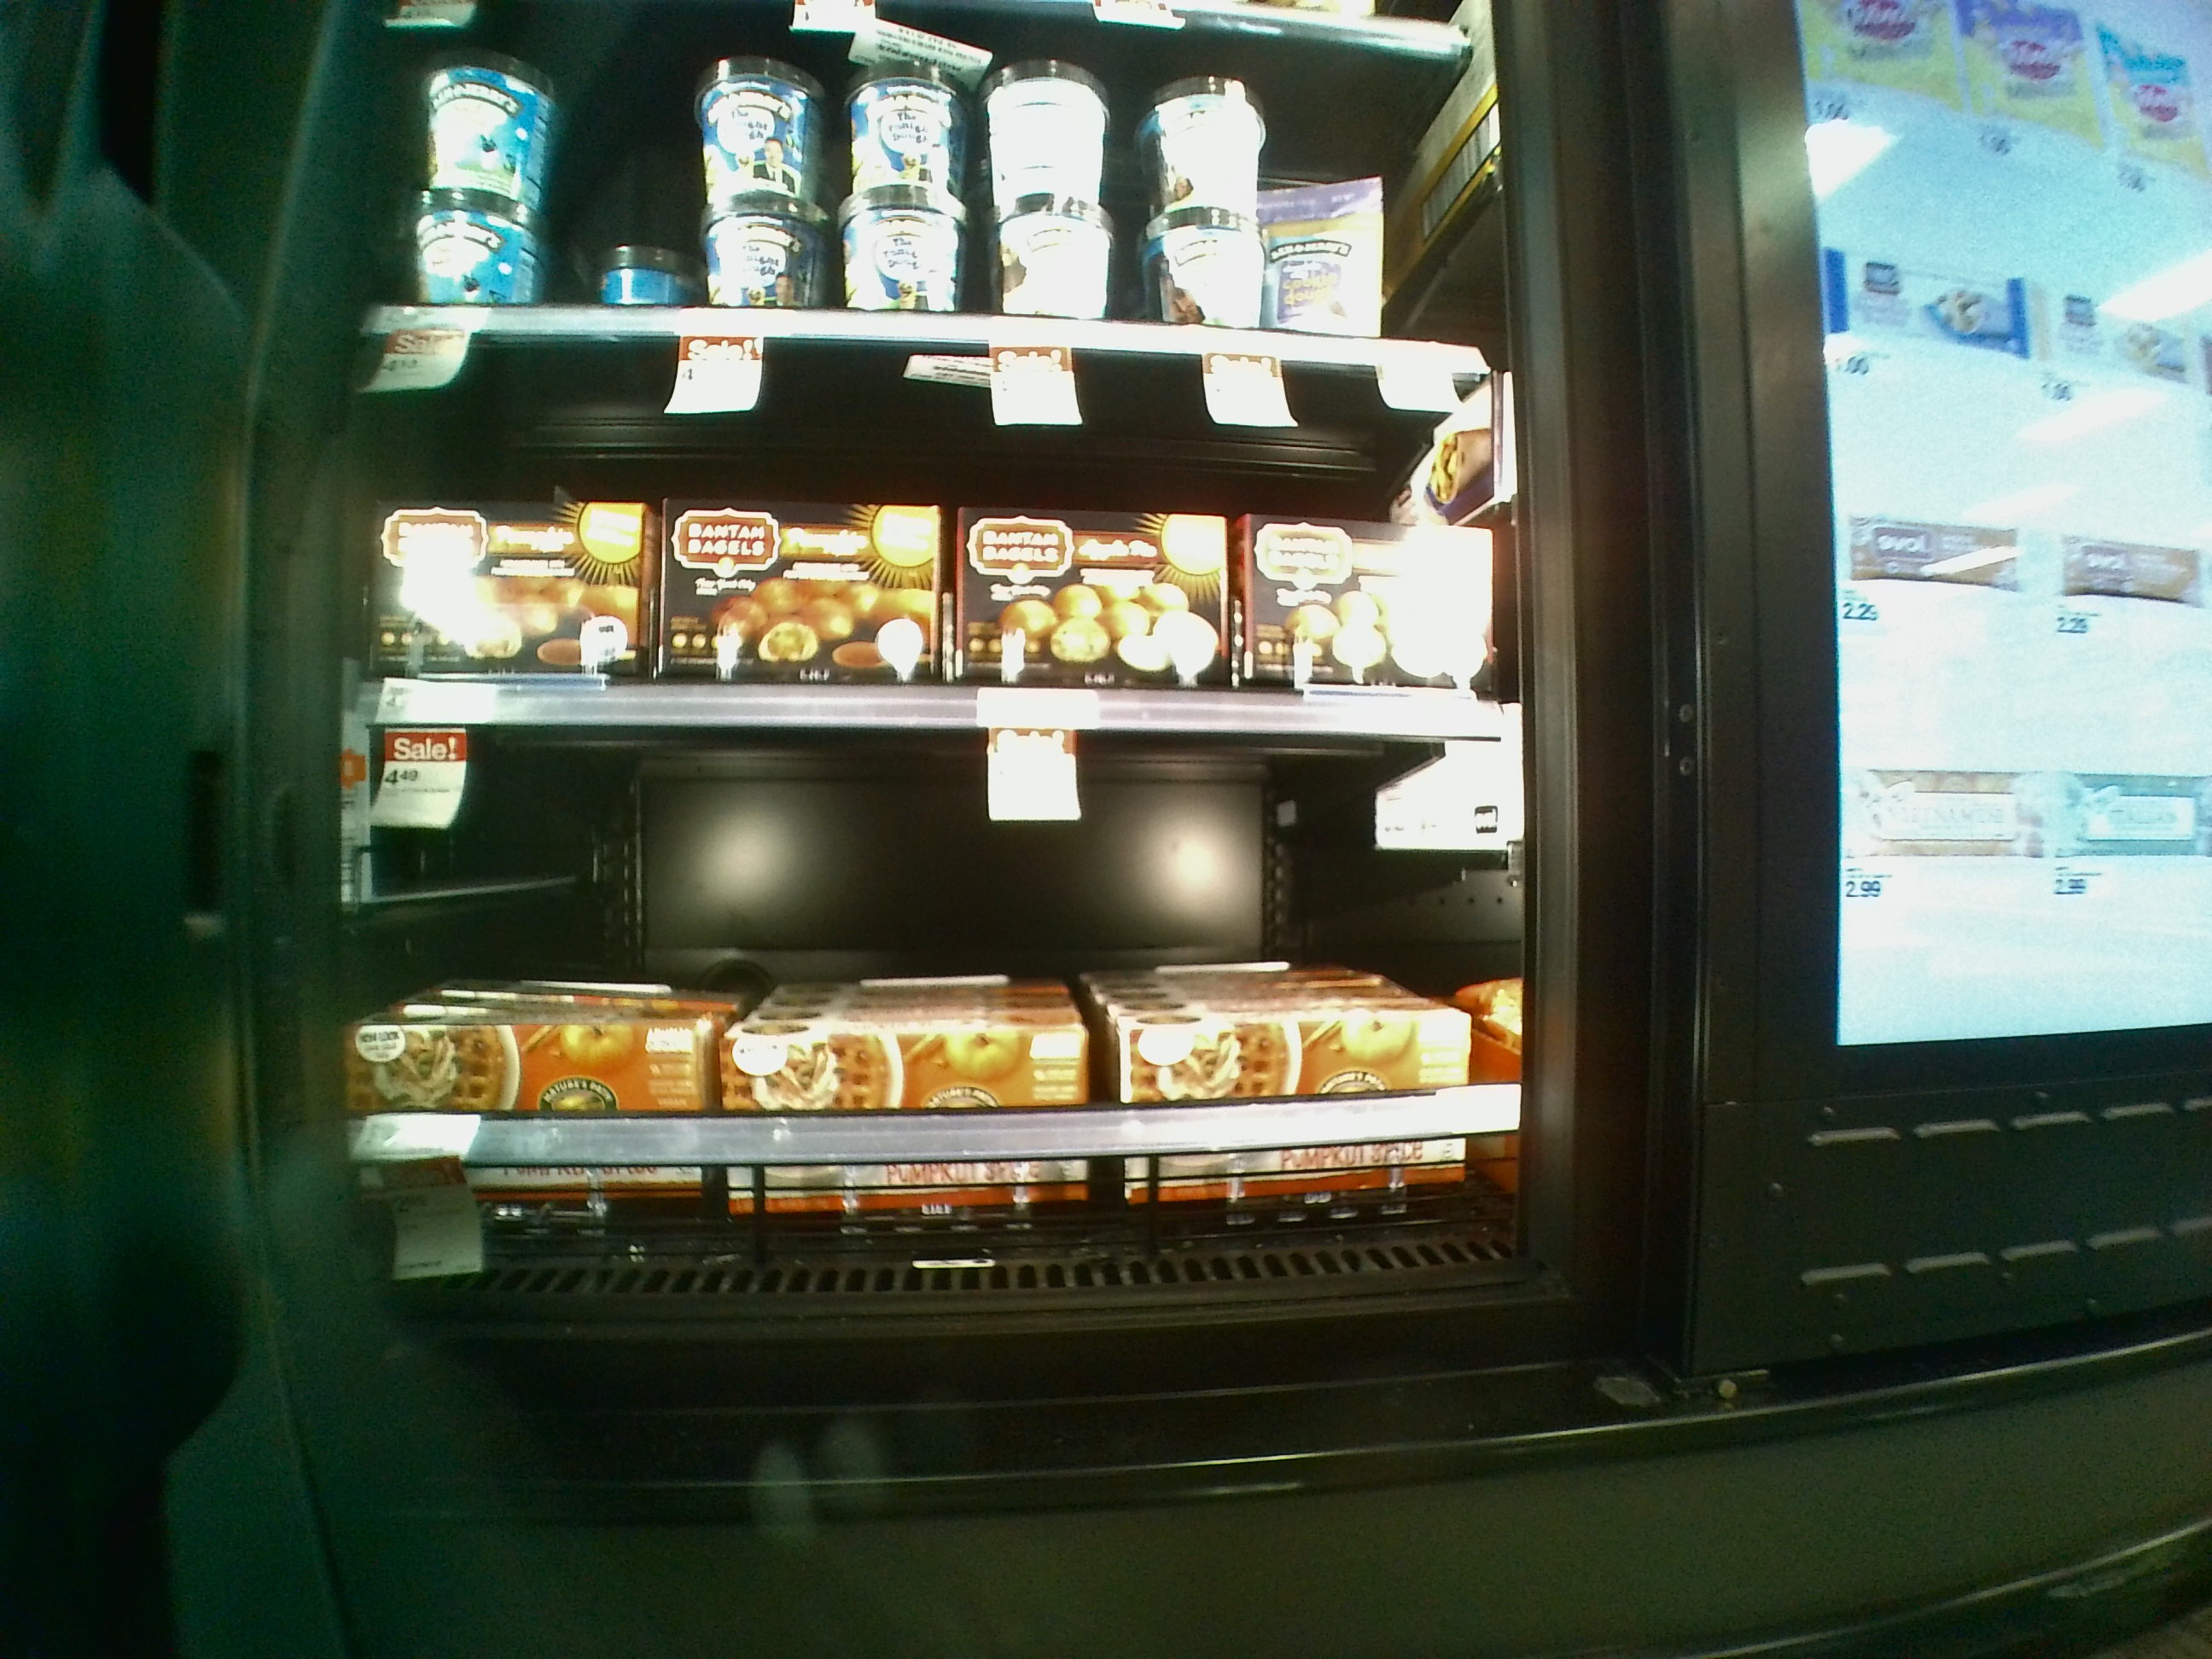shelf: (314, 690, 1540, 1324), (324, 331, 1508, 746)
